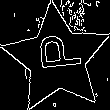P_W: (30, 38, 83, 80)
